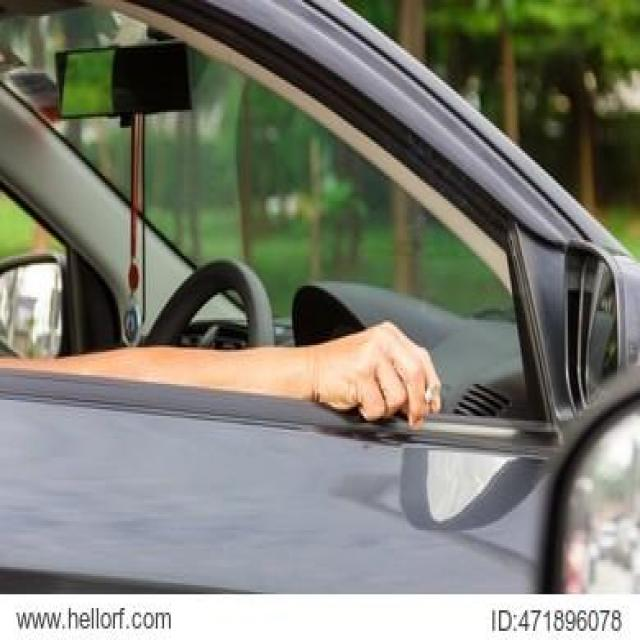Сигарета: (426, 378, 439, 413)
